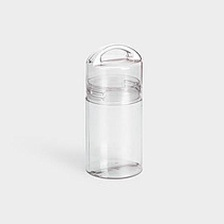plastic_box: (79, 37, 148, 187)
